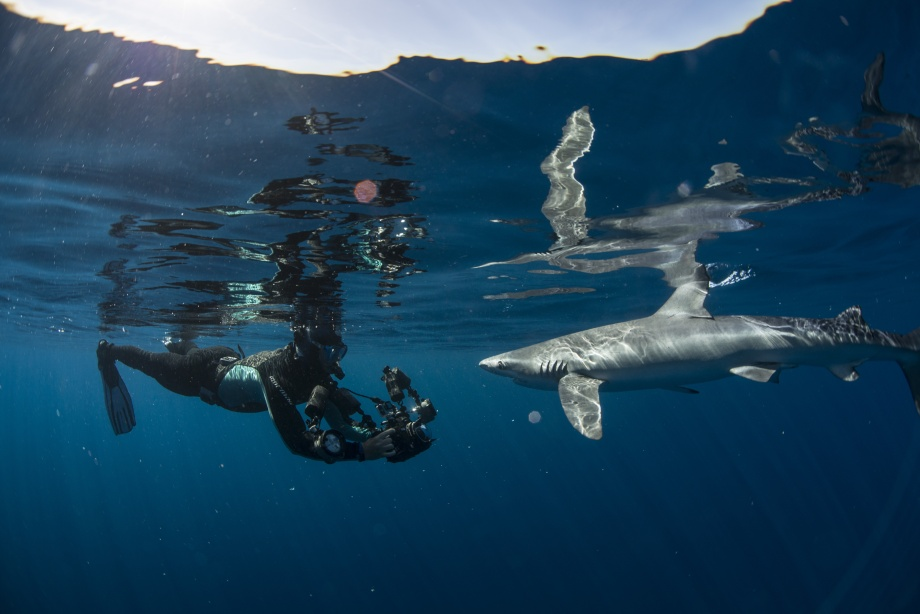Azul: (452, 268, 920, 471)
